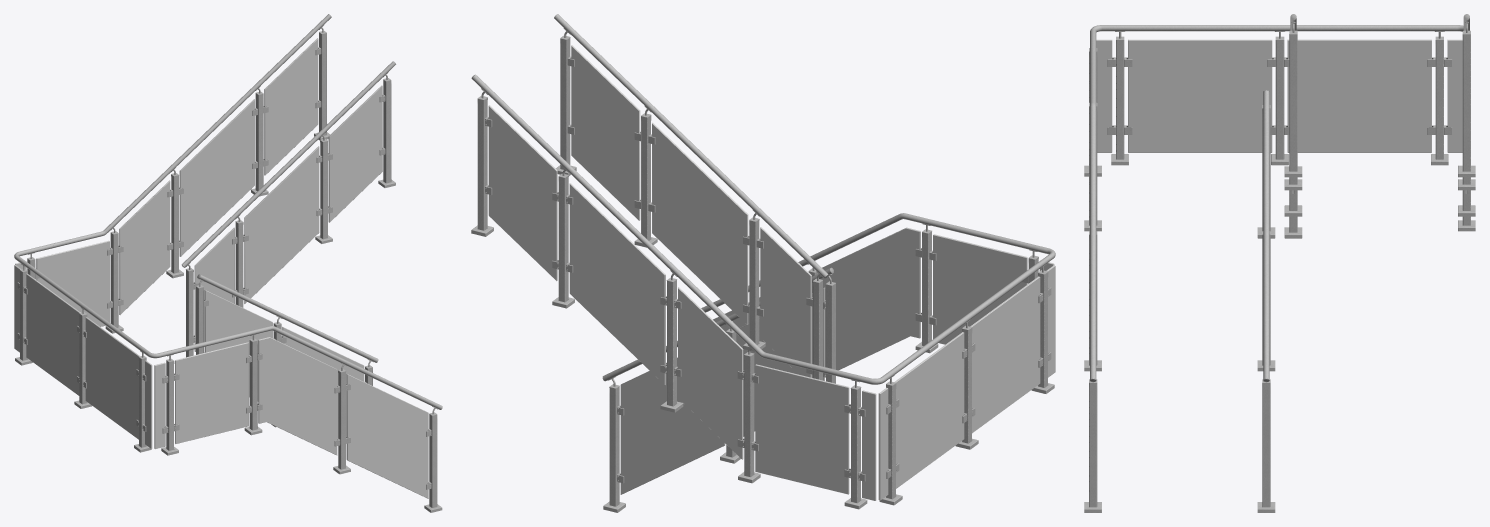
File: Switchback_Circum-Square_Glass.gltf
3 views of the same model, side by side, from view 1: azimuth 30°, elevation 25°; view 2: azimuth 150°, elevation 25°; view 3: azimuth 270°, elevation 25° (orthographic). The views are drawn at different scales.
Parts seen in each view (by area): view 1: LS208 & LS209 - Circum Square Post Material LS Material [872 (×11), Glass Panel_016, Glass Panel_017, Glass Panel_005, Glass Panel_001, Glass Panel_015, Glass Panel_006, Glass Panel_002, Glass Panel_010, Glass Panel_014, Glass Panel_007, Glass Panel_008 (+15 smaller); view 2: Glass Panel_001, Glass Panel_005, Glass Panel_008, LS208 & LS209 - Circum Square Post Material LS Material [872 (×9), Glass Panel_017, Glass Panel_006, Glass Panel_002, Glass Panel_014, Glass Panel_010, Glass Panel_004, Glass Panel_007, LS208 & LS209 - Circum Square Post Material LS Material [846 (×6) (+12 smaller); view 3: Glass Panel_014, Glass Panel_010, LS208 & LS209 - Circum Square Post Material LS Material [872 (×5), LS208 & LS209 - Circum Square Post Material LS Material [846 (×4), Nested_Rail LS Material [8461324], Glass Panel_013, Glass Panel_011, Nested_Bend Bend [8719251], Nested_Rail LS Material [8719249], Nested_Bend Bend [8719253], Nested_Bend Bend [8719267].
Boxes of the visible parts, left/top/right/bottom form: LS208 & LS209 - Circum Square Post Material LS Material [872 (×11): left=20, top=33, right=437, bottom=507; Glass Panel_016: left=346, top=374, right=428, bottom=498; Glass Panel_017: left=258, top=337, right=337, bottom=455; Glass Panel_005: left=179, top=99, right=254, bottom=256; Glass Panel_001: left=244, top=146, right=319, bottom=303; Glass Panel_015: left=175, top=342, right=248, bottom=443; Glass Panel_006: left=264, top=38, right=318, bottom=175; Glass Panel_002: left=328, top=85, right=382, bottom=222; Glass Panel_010: left=26, top=273, right=80, bottom=395; Glass Panel_014: left=85, top=317, right=139, bottom=439; Glass Panel_007: left=119, top=180, right=170, bottom=314; Glass Panel_008: left=36, top=240, right=109, bottom=326; Glass Panel_001: left=652, top=123, right=748, bottom=324; Glass Panel_005: left=569, top=183, right=665, bottom=384; Glass Panel_008: left=755, top=364, right=849, bottom=494; LS208 & LS209 - Circum Square Post Material LS Material [872 (×9): left=477, top=98, right=1048, bottom=503; Glass Panel_017: left=821, top=227, right=920, bottom=370; Glass Panel_006: left=488, top=105, right=557, bottom=280; Glass Panel_002: left=571, top=45, right=640, bottom=220; Glass Panel_014: left=970, top=276, right=1040, bottom=433; Glass Panel_010: left=894, top=332, right=964, bottom=488; Glass Panel_004: left=620, top=357, right=725, bottom=494; Glass Panel_007: left=678, top=287, right=743, bottom=459; LS208 & LS209 - Circum Square Post Material LS Material [846 (×6): left=560, top=38, right=835, bottom=506; Glass Panel_014: left=1128, top=39, right=1272, bottom=152; Glass Panel_010: left=1287, top=39, right=1431, bottom=152; LS208 & LS209 - Circum Square Post Material LS Material [872 (×5): left=1089, top=34, right=1470, bottom=507; LS208 & LS209 - Circum Square Post Material LS Material [846 (×4): left=1262, top=34, right=1297, bottom=507; Nested_Rail LS Material [8461324]: left=1263, top=90, right=1269, bottom=379; Glass Panel_013: left=1096, top=39, right=1112, bottom=152; Glass Panel_011: left=1447, top=39, right=1462, bottom=152; Nested_Bend Bend [8719251]: left=1207, top=25, right=1463, bottom=31; Nested_Rail LS Material [8719249]: left=1090, top=151, right=1096, bottom=379; Nested_Bend Bend [8719253]: left=1090, top=25, right=1205, bottom=52; Nested_Bend Bend [8719267]: left=1090, top=51, right=1096, bottom=151.
Bounding box in the file's own units: 3.05 × 3.48 × 2.38.
4 materials, 2 textured.
